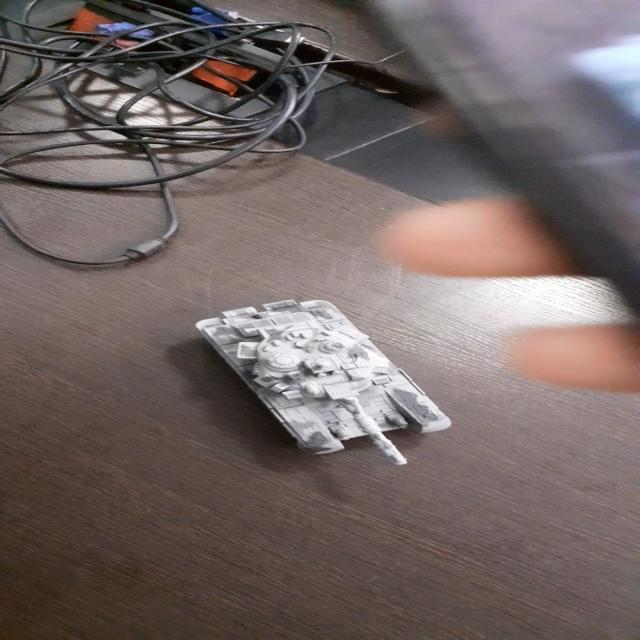tank: (197, 296, 452, 468)
